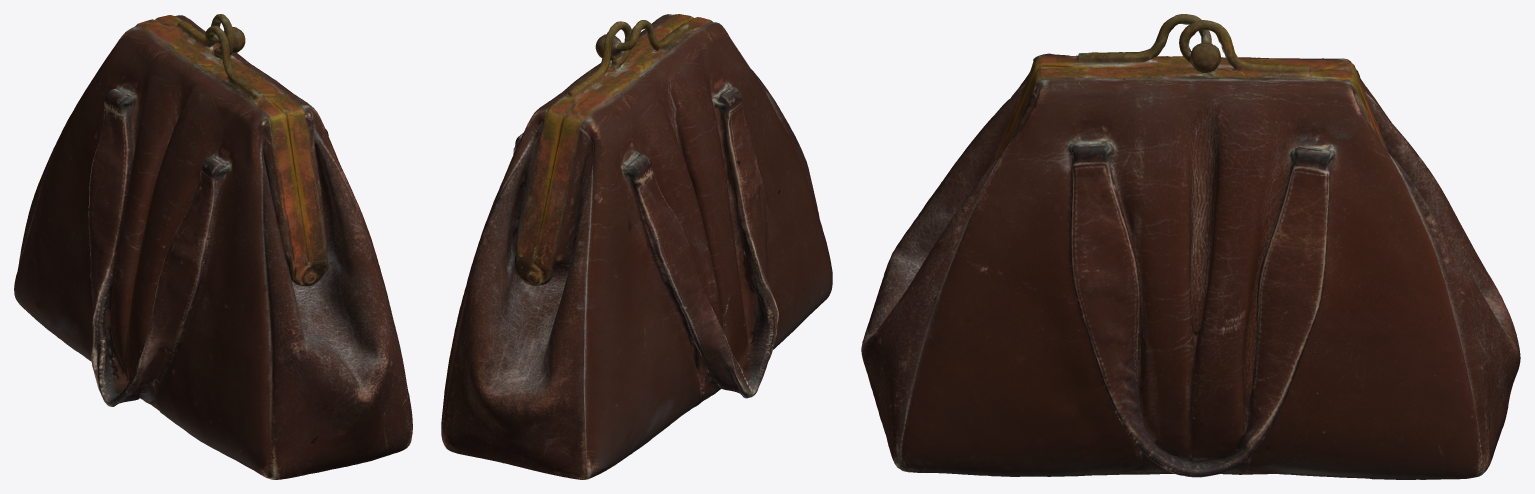
Rendered from handbag.glb.
3 renders of one model, left to right at view 1: azimuth 30°, elevation 25°; view 2: azimuth 150°, elevation 25°; view 3: azimuth 270°, elevation 25°, orthographic. The views are drawn at different scales.
Visible parts, largest first — view 1: handbag; view 2: handbag; view 3: handbag.
Boxes of the visible parts, x1=… form: handbag: x1=14, y1=14, x2=412, y2=479; handbag: x1=441, y1=14, x2=832, y2=479; handbag: x1=861, y1=14, x2=1520, y2=479.
Bounding box in the file's own units: 0.1827 × 0.2674 × 0.3725.
Materials: 1 (1 with a texture image).
